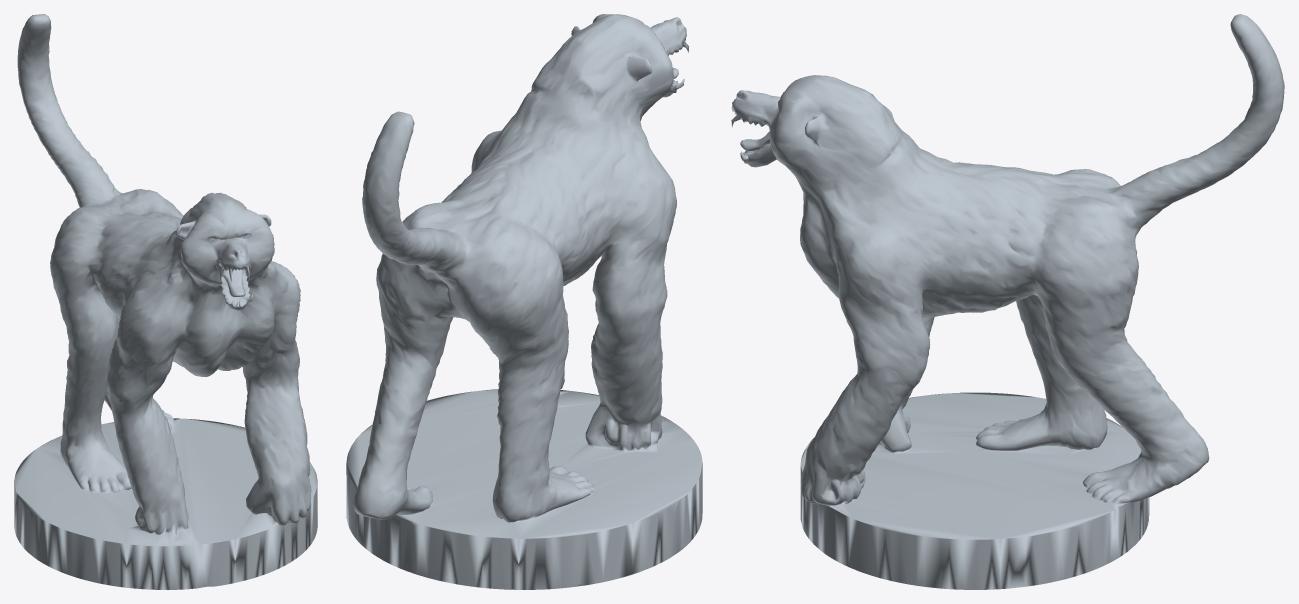
The model's file is baboon.glb.
3 renders of one model, left to right at view 1: azimuth 30°, elevation 25°; view 2: azimuth 150°, elevation 25°; view 3: azimuth 270°, elevation 25°, orthographic. The views are drawn at different scales.
Parts seen in each view (by area): view 1: Baboon_SeamsColor.001; view 2: Baboon_SeamsColor.001; view 3: Baboon_SeamsColor.001.
Part boxes in pixels (x1,y1,x2,y2): Baboon_SeamsColor.001: (14, 14, 317, 589); Baboon_SeamsColor.001: (346, 14, 702, 589); Baboon_SeamsColor.001: (731, 14, 1284, 589).
Size of the model in its own units: 16.37 by 25.55 by 25.97.
1 material, 1 textured.
